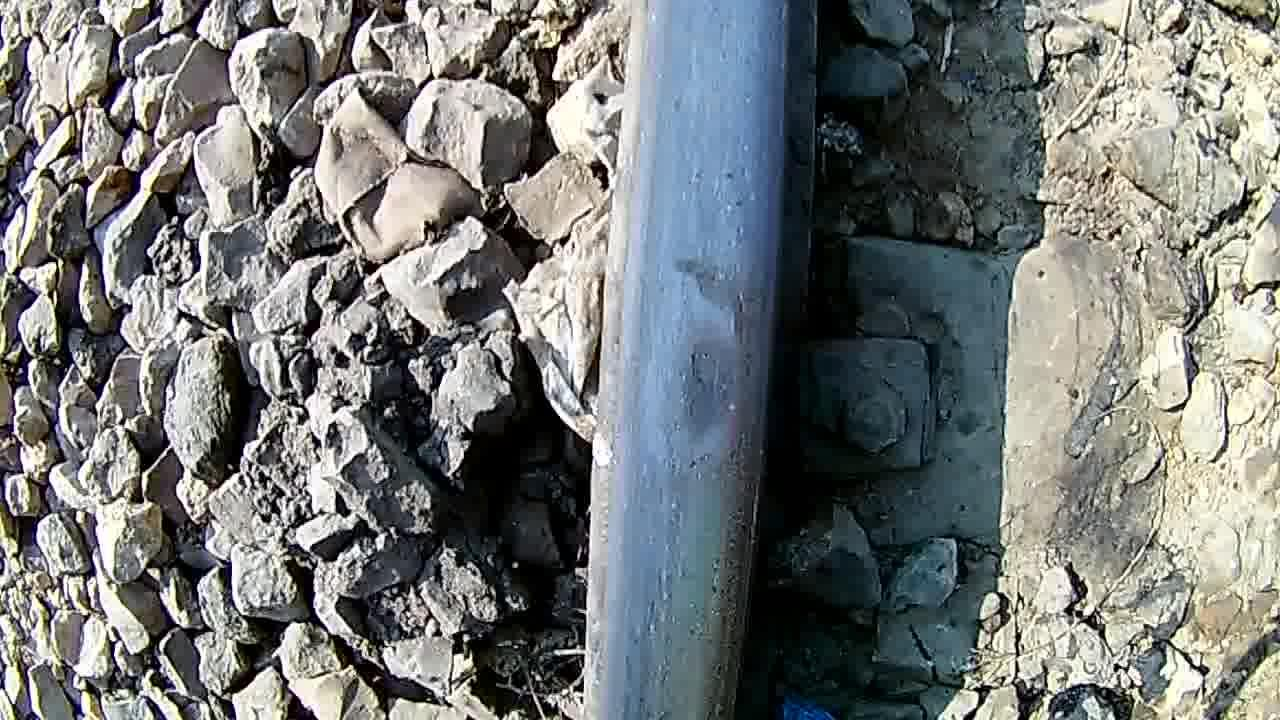bolt_missing: (634, 218, 784, 558)
